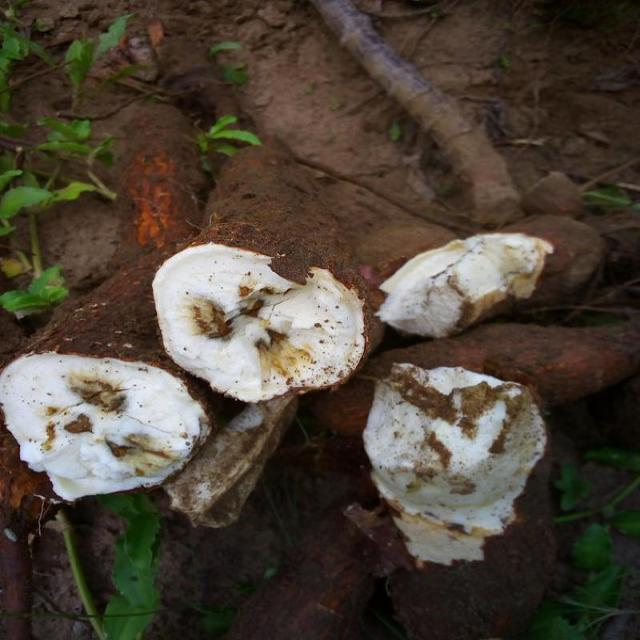cassava leaf: (362, 360, 548, 566), (151, 239, 368, 403), (0, 349, 212, 502), (374, 229, 554, 338)
